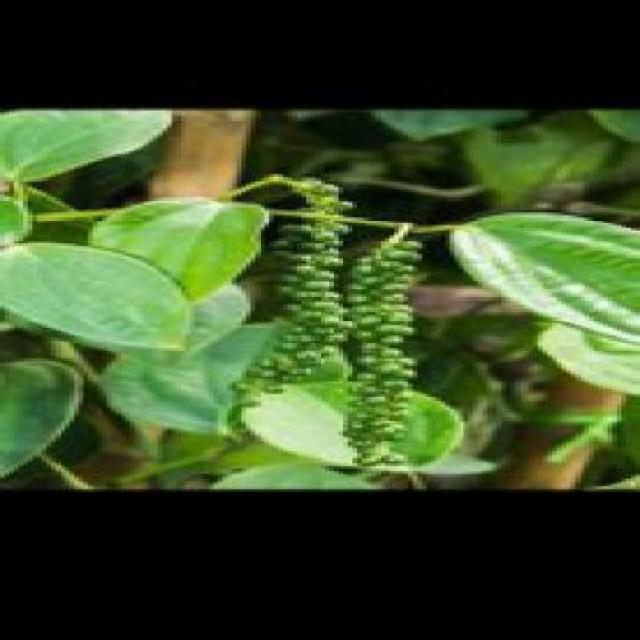UNRIPE: (228, 185, 339, 408), (338, 235, 417, 463)
